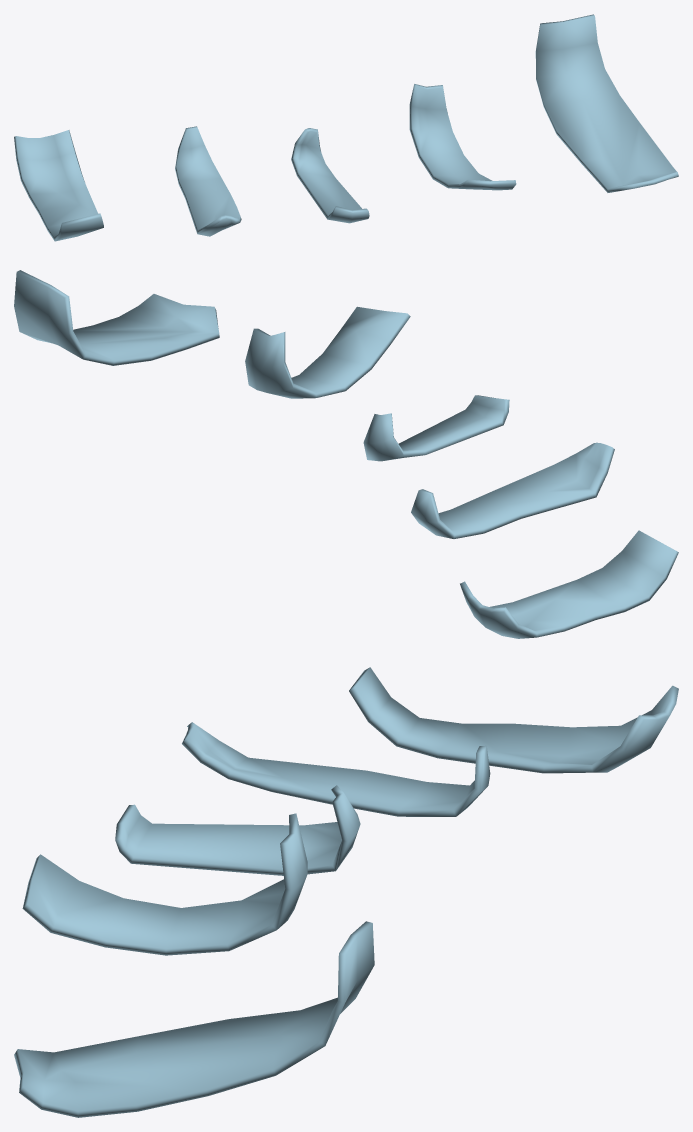
File: articulacoes-plantar-metatarsophalangeal-ligaments-r.glb
3 renders of one model, top to bottom at view 1: azimuth 30°, elevation 25°; view 2: azimuth 150°, elevation 25°; view 3: azimuth 270°, elevation 25°, orthographic. The views are drawn at different scales.
Visible parts, largest first — view 1: Plantar metatarsophalangeal ligaments.r; view 2: Plantar metatarsophalangeal ligaments.r; view 3: Plantar metatarsophalangeal ligaments.r.
Part boxes in pixels (x1=…): Plantar metatarsophalangeal ligaments.r: x1=14, y1=14, x2=678, y2=241; Plantar metatarsophalangeal ligaments.r: x1=14, y1=270, x2=678, y2=638; Plantar metatarsophalangeal ligaments.r: x1=14, y1=667, x2=678, y2=1117.
Bounding box in the file's own units: 0.0682 × 0.0144 × 0.044.
